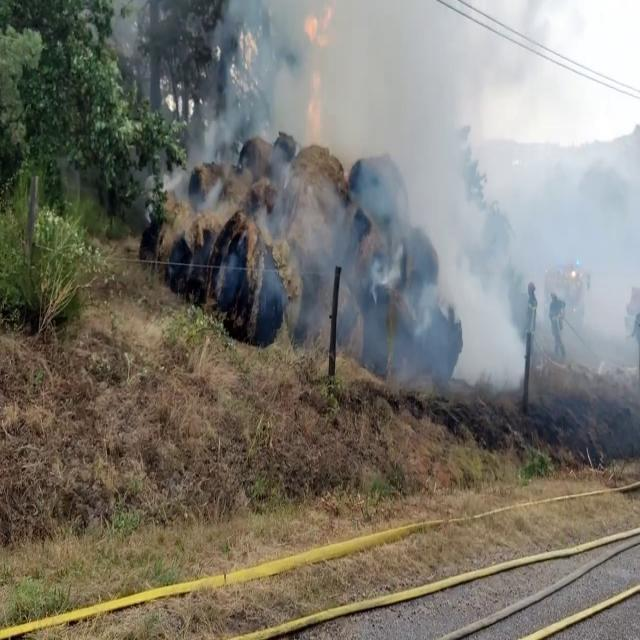Smoke: (226, 0, 639, 396)
